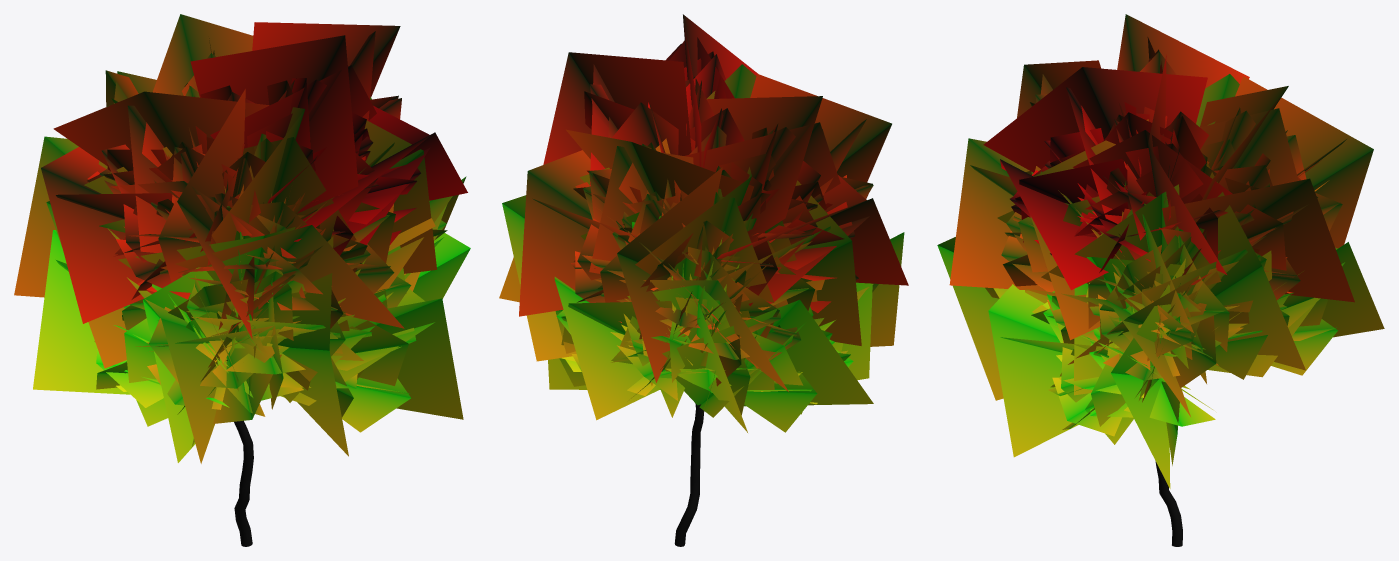
Rendered from linden_tree_10.FBX.
The picture shows the model from 3 angles, left to right: view 1: azimuth 30°, elevation 25°; view 2: azimuth 150°, elevation 25°; view 3: azimuth 270°, elevation 25°; orthographic projection. The views are drawn at different scales.
Parts seen in each view (by area): view 1: linden_leaves_shadow, linden_leaves_lod_0, linden_trunk_lod_0; view 2: linden_leaves_shadow, linden_leaves_lod_0, linden_trunk_lod_0; view 3: linden_leaves_shadow, linden_leaves_lod_0, linden_trunk_lod_0.
Boxes of the visible parts, <box> form: linden_leaves_shadow: <box>14,14,470,463</box>; linden_leaves_lod_0: <box>87,50,447,447</box>; linden_trunk_lod_0: <box>234,420,253,546</box>; linden_leaves_shadow: <box>499,14,908,432</box>; linden_leaves_lod_0: <box>555,51,878,432</box>; linden_trunk_lod_0: <box>674,403,704,546</box>; linden_leaves_shadow: <box>937,14,1384,488</box>; linden_leaves_lod_0: <box>985,49,1342,465</box>; linden_trunk_lod_0: <box>1155,461,1182,546</box>.
Size of what is drawn, in the model's own units: 8.28 by 10.45 by 8.46.
